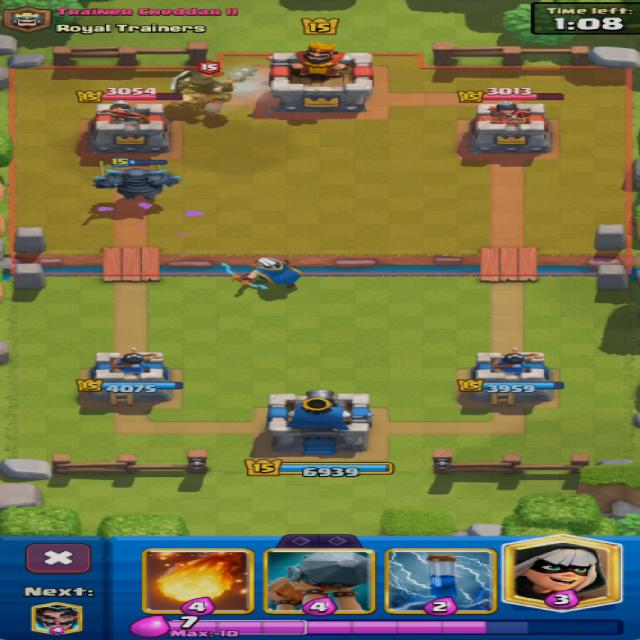Enemy-DarkPrince-Shield-Charge: (172, 68, 255, 113)
Enemy-KingTower: (269, 43, 372, 114)
Enemy-PrincessTower: (82, 101, 169, 155), (468, 102, 550, 155)
